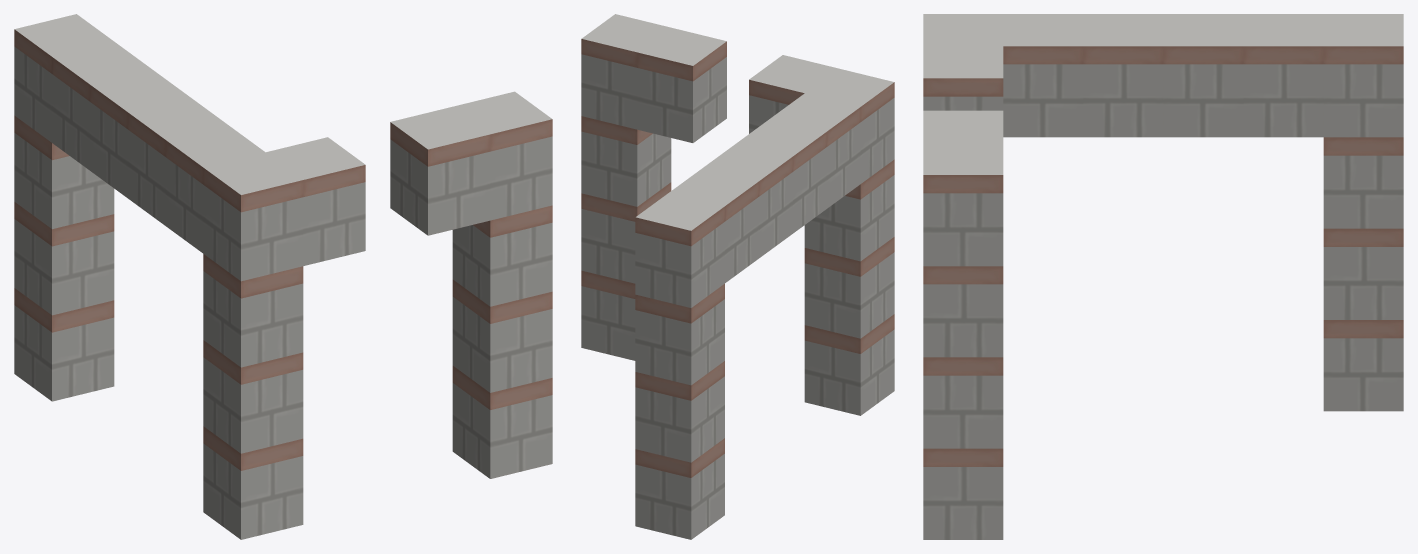
3 views of the same model, side by side, from view 1: azimuth 30°, elevation 25°; view 2: azimuth 150°, elevation 25°; view 3: azimuth 270°, elevation 25° (orthographic). The views are drawn at different scales.
Parts seen in each view (by area): view 1: centralgate_02; view 2: centralgate_02; view 3: centralgate_02.
Part boxes in pixels (left/top/right/bottom): centralgate_02: left=14, top=14, right=552, bottom=539; centralgate_02: left=581, top=14, right=894, bottom=539; centralgate_02: left=923, top=14, right=1403, bottom=539.
Bounding box in the file's own units: 0.5714 × 0.6044 × 0.7205.
Materials: 1 (1 with a texture image).
